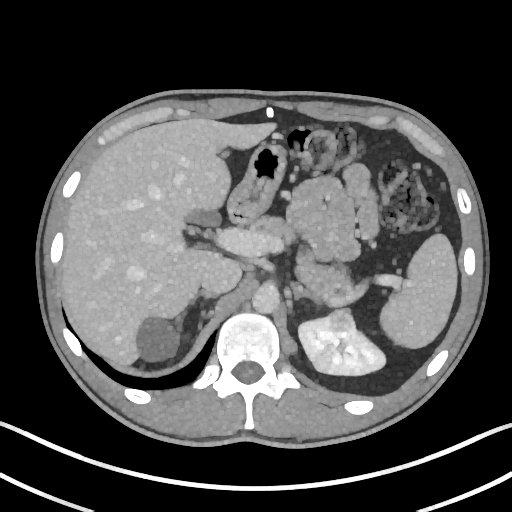Lesion: (329, 309, 356, 336)
